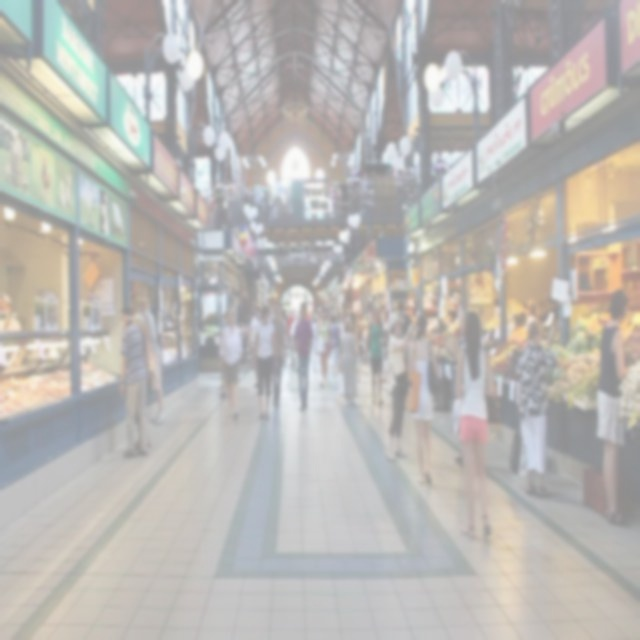pessoa: (448, 306, 496, 544), (515, 317, 576, 500), (596, 286, 632, 526), (407, 313, 440, 487), (118, 302, 150, 458), (386, 310, 416, 462), (136, 294, 168, 426), (252, 303, 278, 422), (218, 308, 244, 422), (132, 312, 152, 452), (291, 300, 314, 413), (452, 308, 468, 468), (363, 305, 386, 408), (335, 316, 359, 408), (269, 302, 287, 410), (518, 284, 564, 326), (0, 292, 25, 368), (396, 296, 414, 388), (246, 302, 264, 390), (436, 268, 462, 328), (316, 304, 332, 389), (218, 306, 232, 401), (282, 306, 298, 374), (380, 308, 393, 386), (328, 312, 340, 375), (350, 310, 360, 344), (313, 313, 320, 323)
